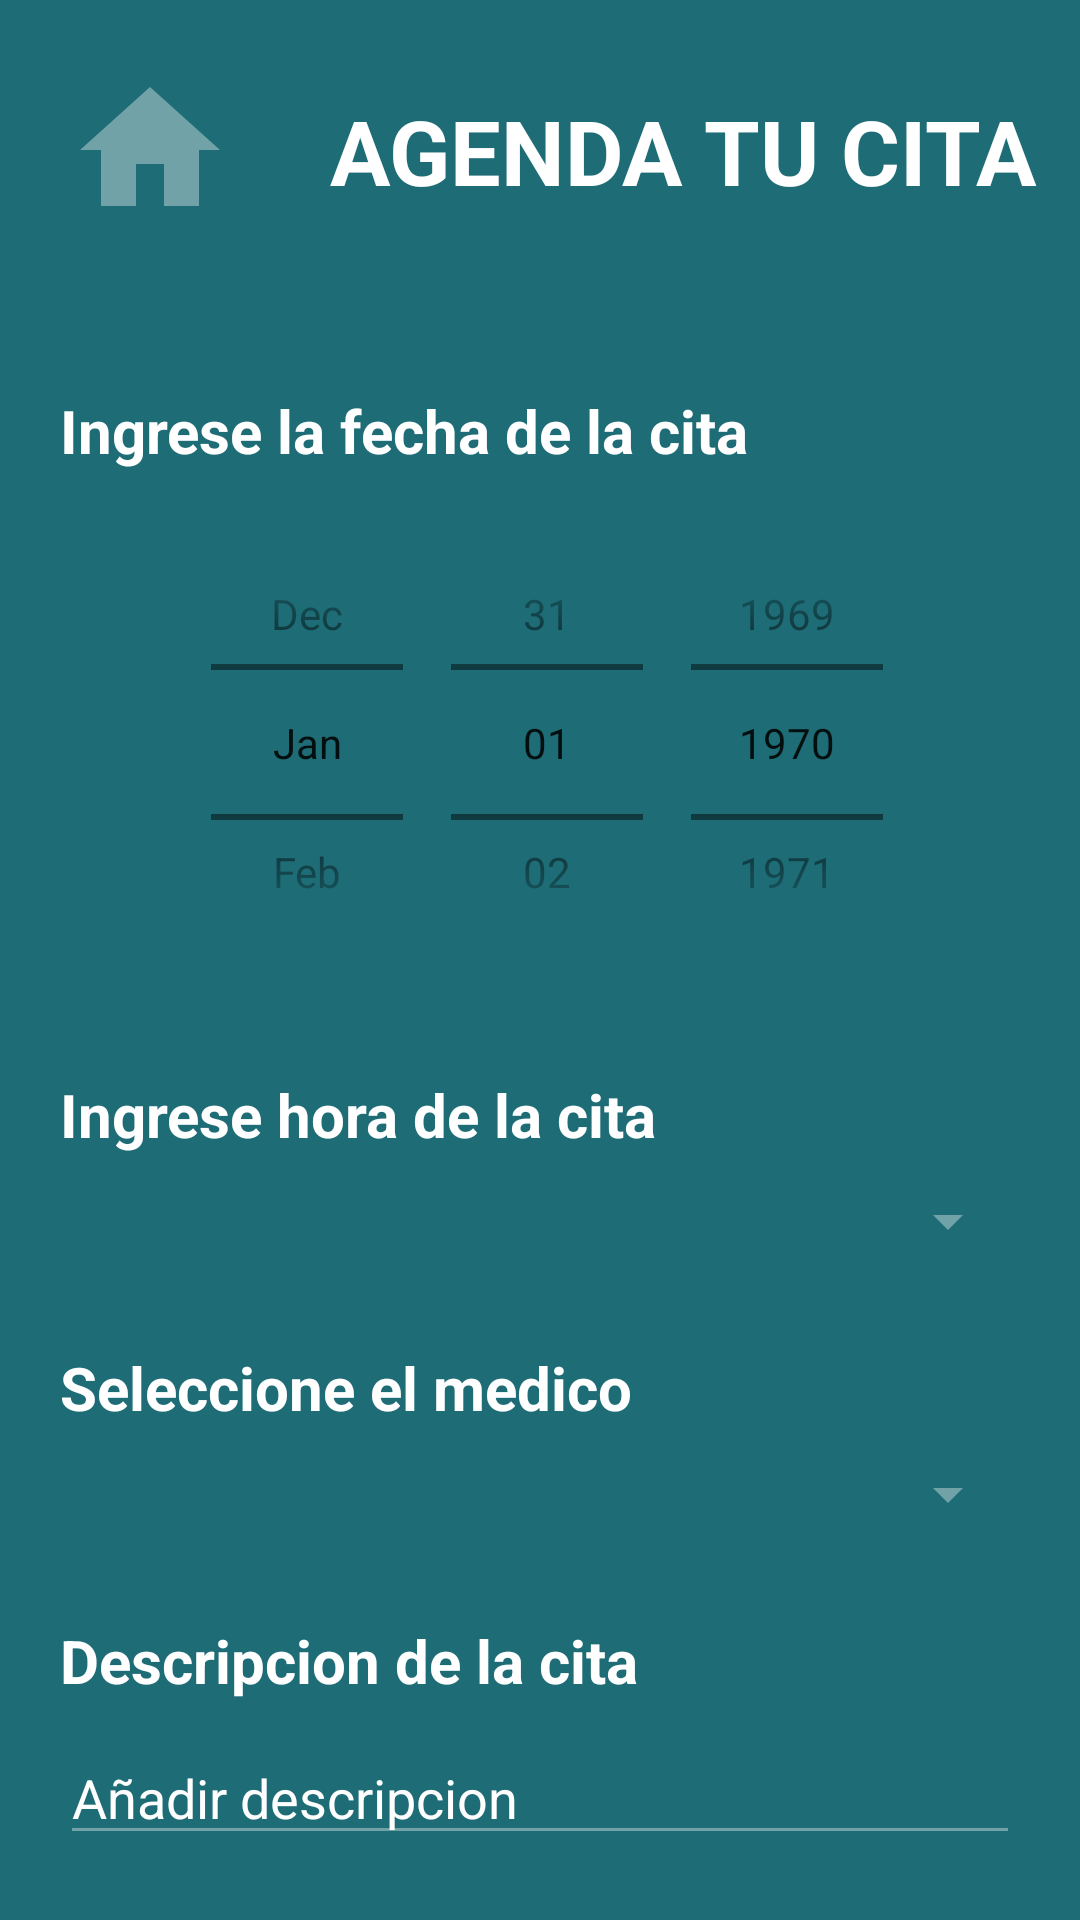

Icons on this 1080*1920 Android screen, each with the point to tap as (x=x, y=y):
home: (x=150, y=146)
